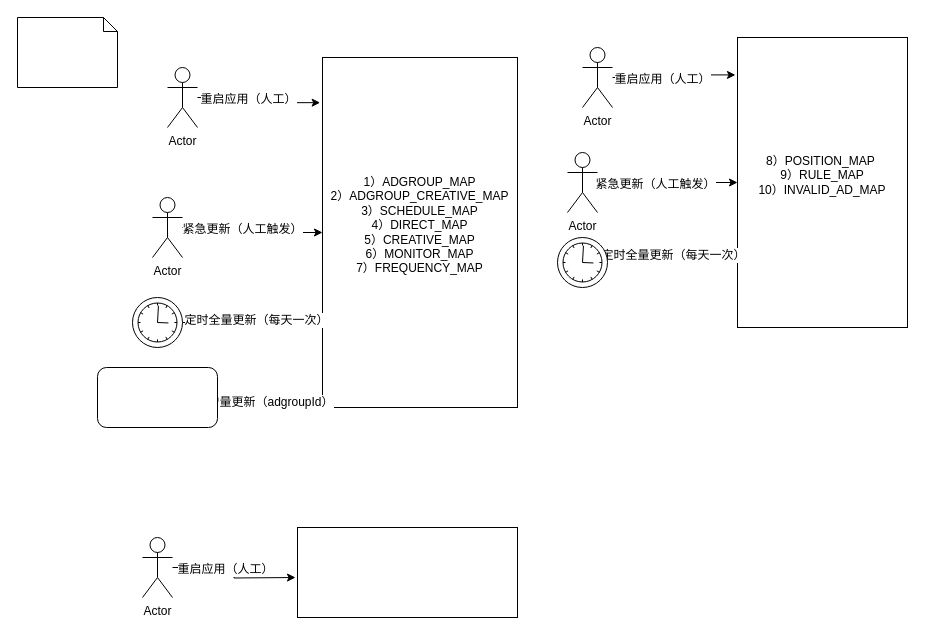
The diagram is 925 pixels wide and 636 high, and some of its shapes have lost their labels. The centre of each missing label's shape, as x and y in pixels:
"11）SPRING_CONFIG_LOAD_TIME 12）SPRING_CONFIG_LOCATION 13）SPRING_ENVIRONMENT_MAP" belongs at point (407, 572).
"ad-shield 屏蔽层" belongs at point (67, 52).
"业务系统（对广告及排期做相应的操作）" belongs at point (157, 397).
